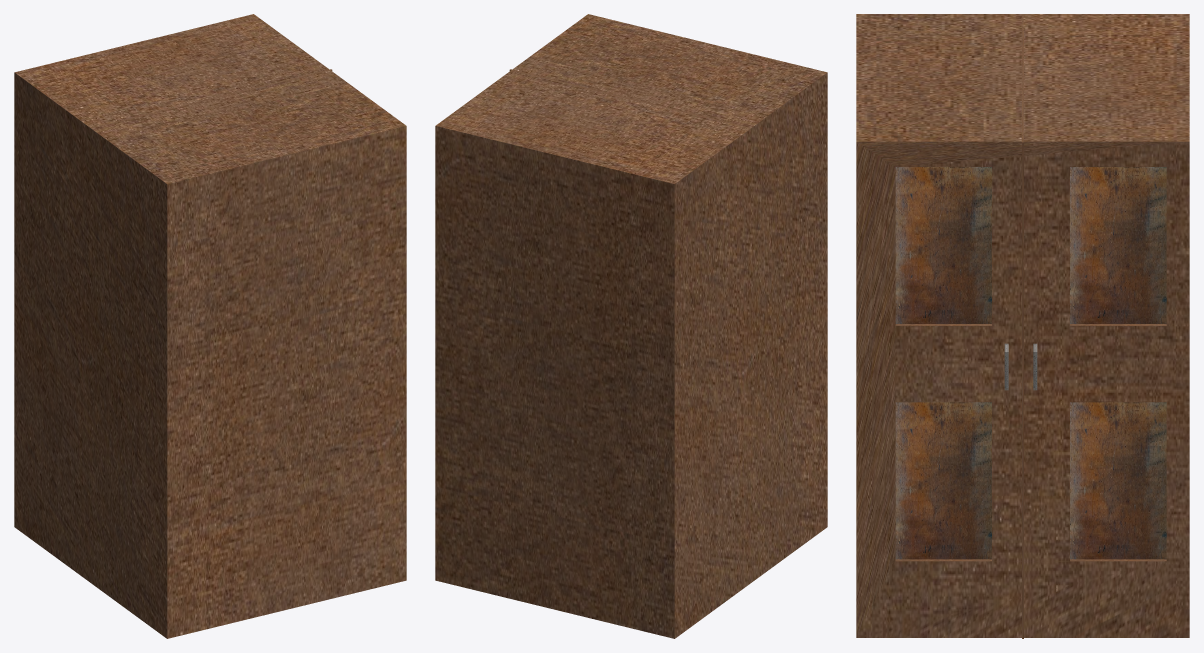
File: gabinete.glb
3 views of the same model, side by side, from view 1: azimuth 30°, elevation 25°; view 2: azimuth 150°, elevation 25°; view 3: azimuth 270°, elevation 25° (orthographic). The views are drawn at different scales.
Visible parts, largest first — view 1: polySurface9_lambert6_0; view 2: polySurface9_lambert6_0; view 3: polySurface9_lambert6_0, polySurface9_lambert7_0, polySurface9_lambert8_0.
Part boxes in pixels (<box>): polySurface9_lambert6_0: <box>14,14,406,638</box>; polySurface9_lambert6_0: <box>435,14,827,638</box>; polySurface9_lambert6_0: <box>856,14,1189,638</box>; polySurface9_lambert7_0: <box>895,167,1166,559</box>; polySurface9_lambert8_0: <box>1004,343,1037,390</box>.
Bounding box in the file's own units: 1.12 × 1.96 × 1.19.
Materials: 3 (3 with a texture image).
